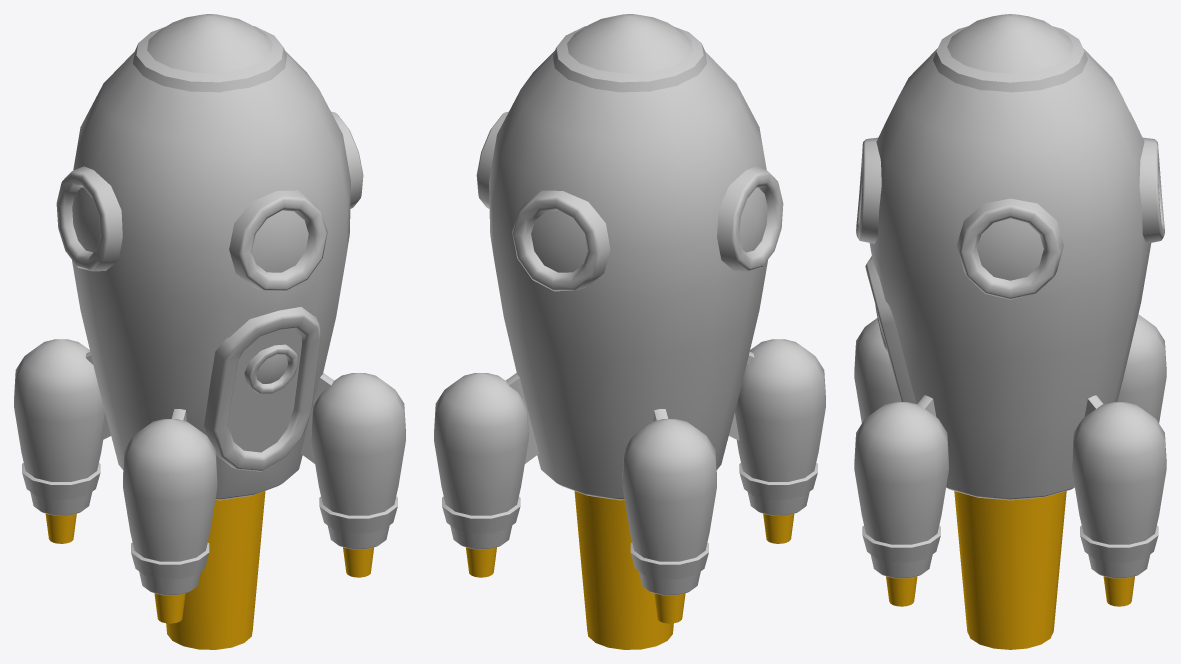
File: rocket_001.fbx
The picture shows the model from 3 angles, left to right: view 1: azimuth 30°, elevation 25°; view 2: azimuth 150°, elevation 25°; view 3: azimuth 270°, elevation 25°; orthographic projection.
Visible parts, largest first — view 1: rocket_001; view 2: rocket_001; view 3: rocket_001.
Boxes of the visible parts, x1,y1,x2,y2 form: rocket_001: (14,14,405,649); rocket_001: (434,14,825,649); rocket_001: (854,14,1166,649).
Bounding box in the file's own units: 568 × 568 × 1234.
